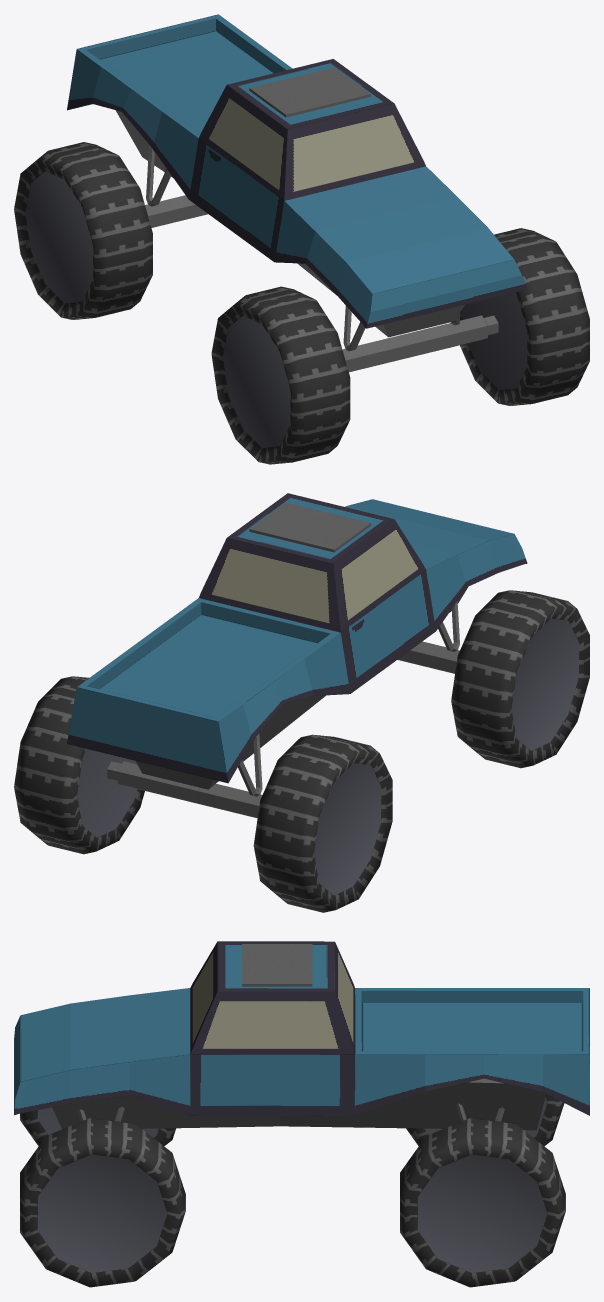
The model's file is MonsterTruck.fbx.
3 views of the same model, one above another, from view 1: azimuth 30°, elevation 25°; view 2: azimuth 150°, elevation 25°; view 3: azimuth 270°, elevation 25° (orthographic). The views are drawn at different scales.
Parts seen in each view (by area): view 1: MonsterTruck, MT-FrontWheelRight, MT-BackWheelRight, MT-FrontWheelLeft; view 2: MonsterTruck, MT-BackWheelRight, MT-FrontWheelRight, MT-BackWheelLeft; view 3: MonsterTruck, MT-BackWheelLeft, MT-FrontWheelLeft, MT-FrontWheelRight, MT-BackWheelRight.
Boxes of the visible parts, x1,y1,x2,y2 form: MonsterTruck: [67, 14, 527, 372]; MT-FrontWheelRight: [211, 286, 350, 464]; MT-BackWheelRight: [14, 142, 152, 319]; MT-FrontWheelLeft: [459, 228, 589, 405]; MonsterTruck: [67, 493, 527, 818]; MT-BackWheelRight: [253, 734, 392, 912]; MT-FrontWheelRight: [451, 590, 589, 768]; MT-BackWheelLeft: [14, 676, 144, 854]; MonsterTruck: [14, 941, 589, 1130]; MT-BackWheelLeft: [400, 1118, 565, 1287]; MT-FrontWheelLeft: [20, 1118, 185, 1287]; MT-FrontWheelRight: [20, 1107, 175, 1146]; MT-BackWheelRight: [406, 1094, 564, 1146].
Size of the model in its own units: 369 by 318 by 642.
